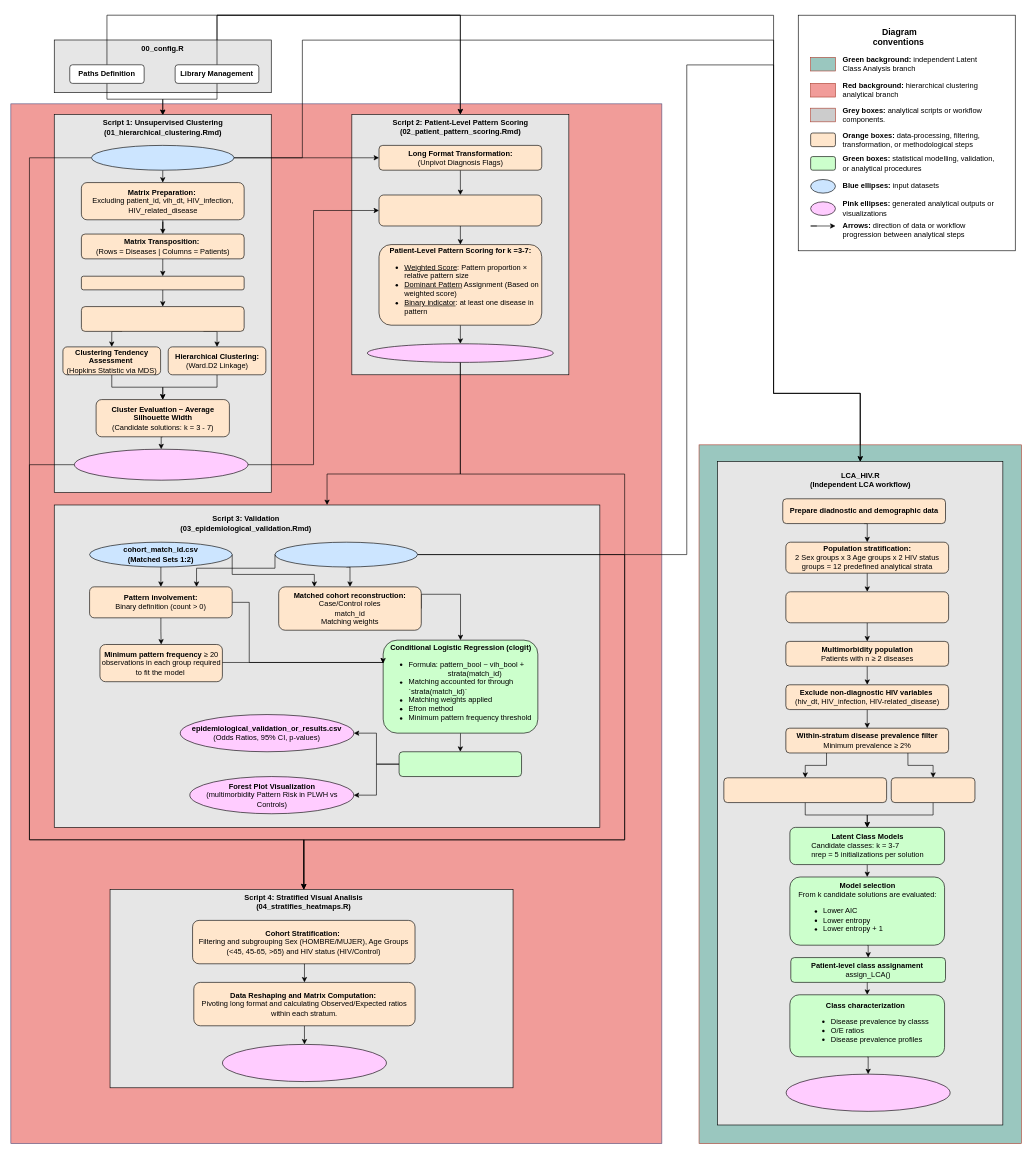
The diagram is 1032 pixels wide and 1154 high, and some of its shapes have lost their labels. The box of each missing label's shape, as (x1, y1, x2, y2) in pixels:
bdu_full.csv (Demographics): (274, 542, 418, 567)
diagnosis_bool_prevalent_final.csv: (91, 145, 234, 170)
Disease Prevalence Filter ≥ 2%: (81, 276, 244, 290)
Interactive stratified HTML heatmaps (Sex x Age x HIV status x k (k=3-7)): (222, 1044, 386, 1082)
Jaccard Distance Calculation: d = 1 - (A ∩ B) / (A ∪ B): (81, 306, 244, 331)
jaccard_disease_patterns_multi_k.csv (Disease-to-Cluster Mapping k = 3–7 ): (74, 449, 248, 480)
Join Patient Diagnoses with Assigned Clusters: (378, 194, 542, 226)
LCA visualizations (Sex x Age x HIV status x k (k=3-7)): (786, 1074, 950, 1111)
Minimum indicator requitement ≥ 5 eligible disease indicators: (723, 777, 887, 803)
Minimum stratum size: N ≥ 300 patients (Strata below threshold are skipped): (785, 591, 949, 623)
Multiple-testing correction Benjamini-Hochberg FDR: (398, 751, 522, 777)
patient_pattern_scores_hierarchical_k3_k7.csv: (367, 343, 553, 362)
Reproducibility set.seed(202112): (891, 777, 975, 803)
